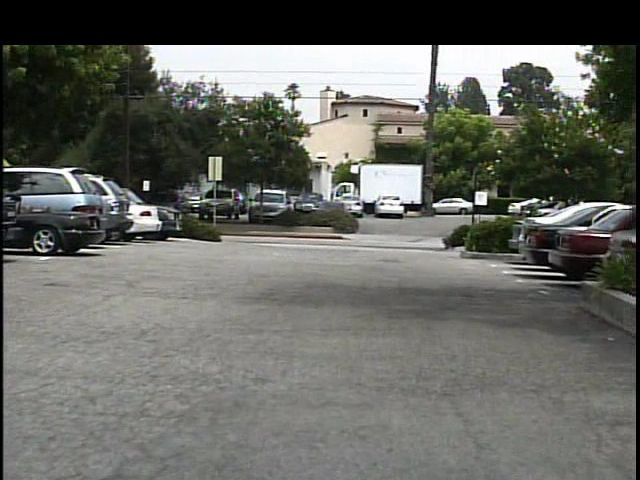person: (173, 195, 195, 235)
